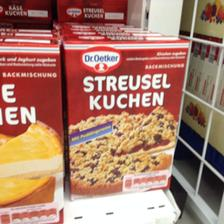Kuchen: (61, 34, 191, 196), (0, 38, 64, 218)
